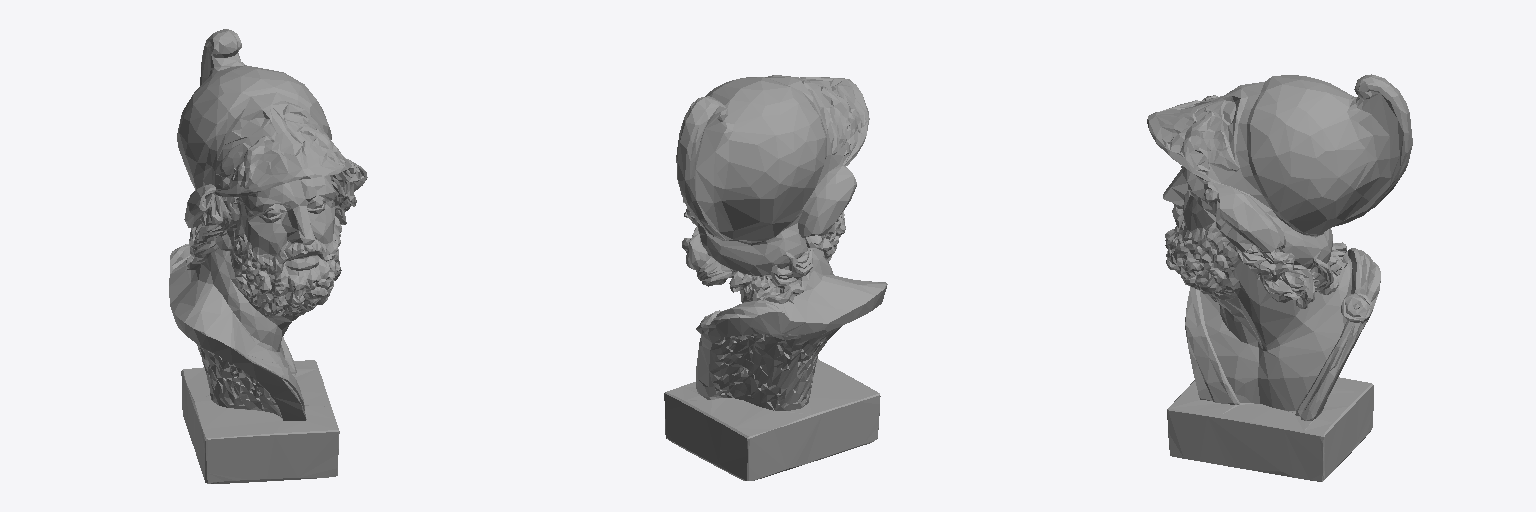
File: greek_bust_low.obj
3 views of the same model, side by side, from view 1: azimuth 30°, elevation 25°; view 2: azimuth 150°, elevation 25°; view 3: azimuth 270°, elevation 25° (orthographic).
Visible parts, largest first — view 1: greek_bust_low_greek_bust.002; view 2: greek_bust_low_greek_bust.002; view 3: greek_bust_low_greek_bust.002.
Boxes of the visible parts, x1=… form: greek_bust_low_greek_bust.002: x1=169, y1=29, x2=367, y2=483; greek_bust_low_greek_bust.002: x1=664, y1=75, x2=887, y2=480; greek_bust_low_greek_bust.002: x1=1147, y1=74, x2=1412, y2=481.
Size of the model in its own units: 0.3785 by 0.755 by 0.4853.